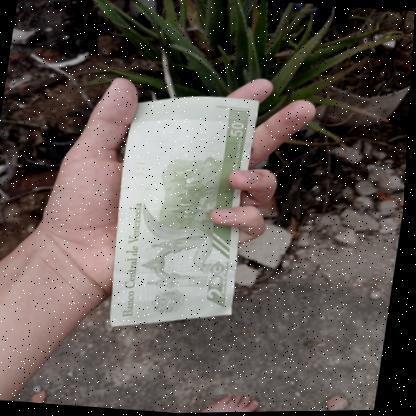fifty-back-vef: (103, 89, 266, 338)
